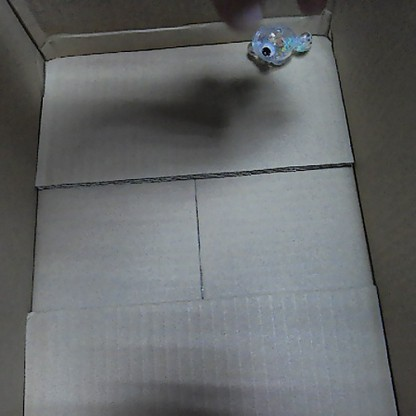whitefish: (242, 22, 316, 69)
